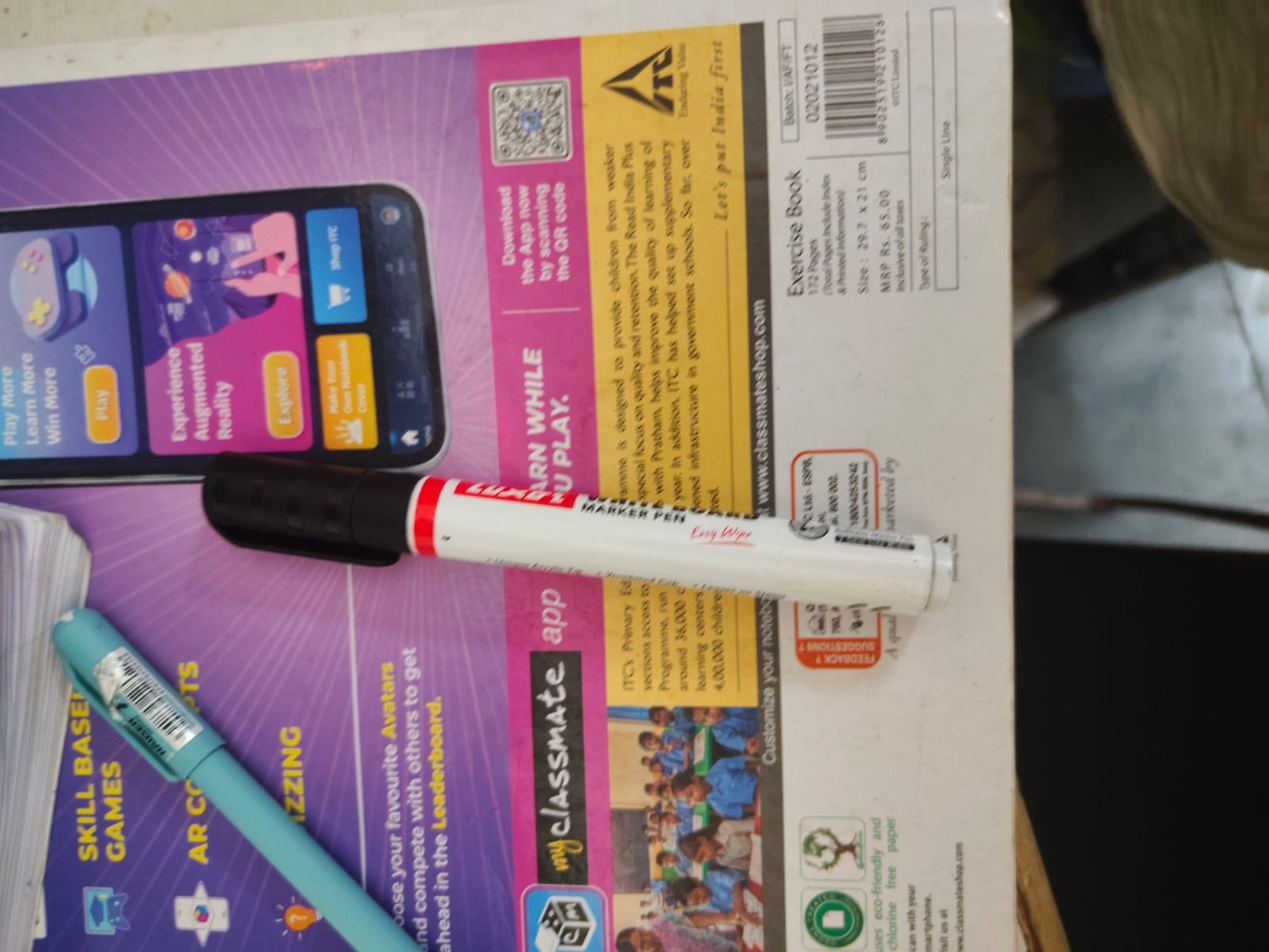case: (196, 432, 989, 645)
pen: (41, 590, 470, 952)
